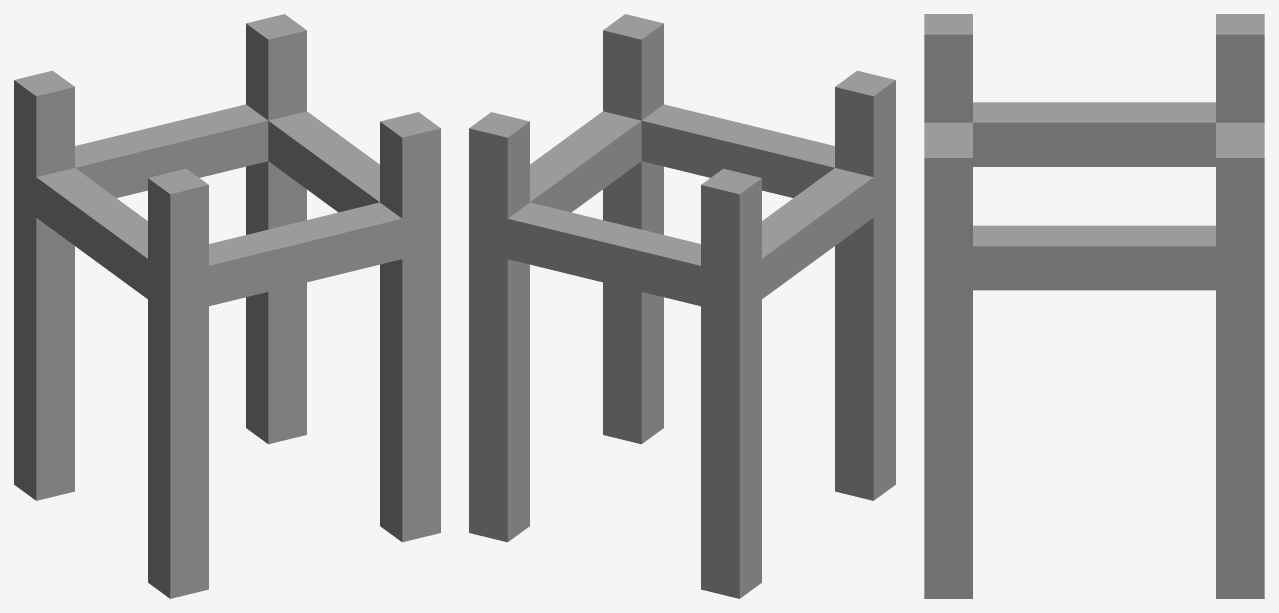
File: TableLeg3.obj
The picture shows the model from 3 angles, left to right: view 1: azimuth 30°, elevation 25°; view 2: azimuth 150°, elevation 25°; view 3: azimuth 270°, elevation 25°; orthographic projection. The views are drawn at different scales.
Size of the model in its own units: 0.7 by 1 by 0.7.
